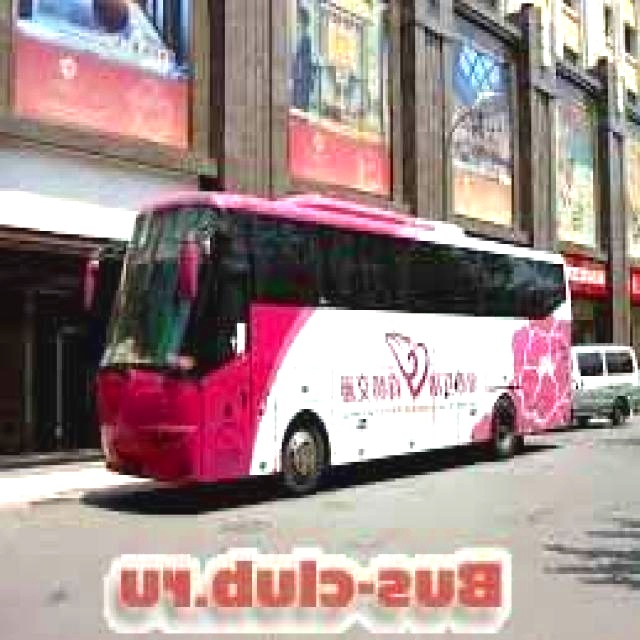bus: (45, 173, 592, 511)
